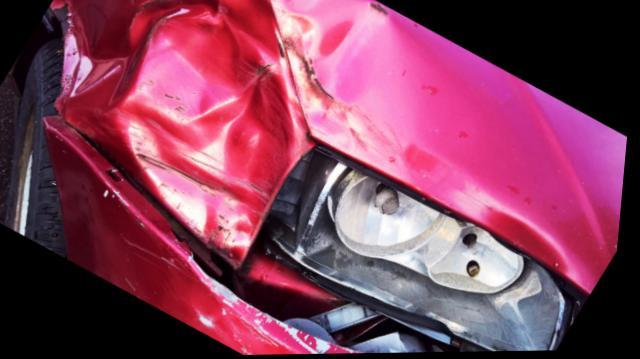dent: (268, 0, 573, 276), (57, 0, 316, 249)
dislocated part: (39, 108, 489, 356)
lamp broken: (264, 138, 584, 353)
scratch: (166, 276, 379, 356)
